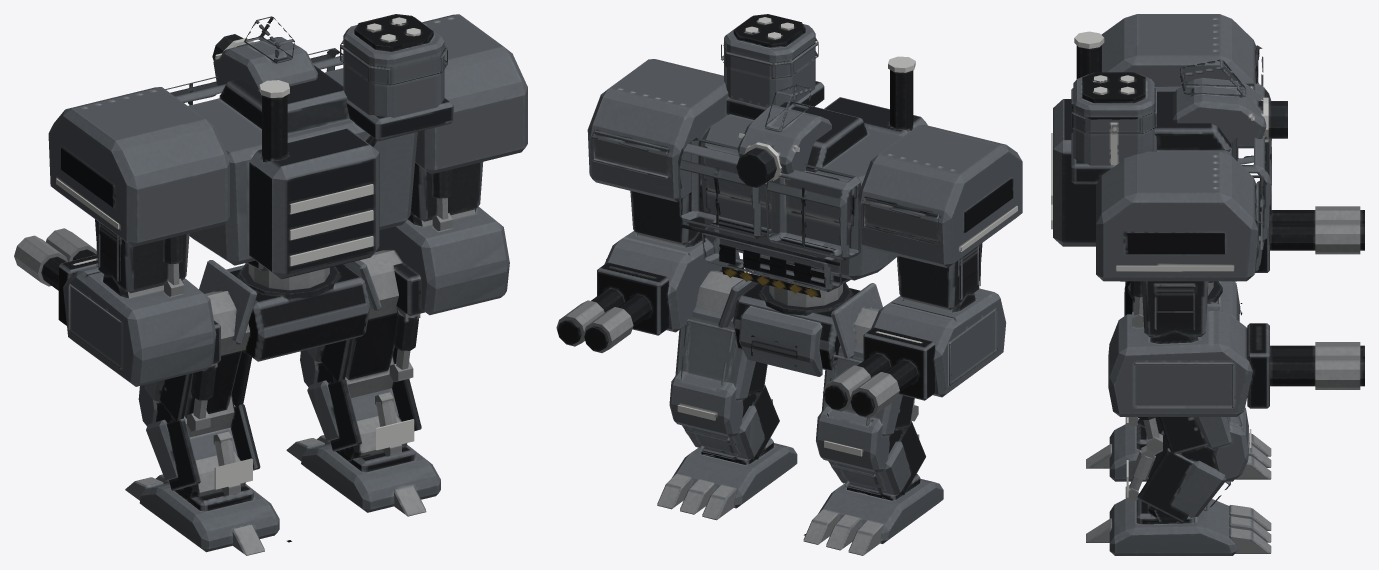
File: chs_korgoth.fbx
3 views of the same model, side by side, from view 1: azimuth 30°, elevation 25°; view 2: azimuth 150°, elevation 25°; view 3: azimuth 270°, elevation 25° (orthographic). The views are drawn at different scales.
Parts seen in each view (by area): view 1: torso_bar, gunL_bar, gunR_bar, base_bar, missile_pod_bar, thighR_bar, footR_bar, footL_bar, thighL_bar, shinL_bar, shinR_bar, ray_arm_bar (+3 smaller); view 2: torso_bar, gunL_bar, gunR_bar, thighR_bar, base_bar, missile_pod_bar, footR_bar, footL_bar, thighL_bar, ray_arm_bar, shinL_bar, shinR_bar; view 3: torso_bar, gunR_bar, footR_bar, missile_pod_bar, ray_arm_bar, shinR_bar, thighR_bar, gunL_bar, footL_bar, base_bar, torso_glow_running_bar, torso_glow_power_bar (+1 smaller).
Boxes of the visible parts, x1,y1,x2,y2 form: torso_bar: (48,14,527,290); gunL_bar: (14,219,220,386); gunR_bar: (376,162,509,315); base_bar: (199,260,381,361); missile_pod_bar: (340,14,447,117); thighR_bar: (300,250,420,397); footR_bar: (286,412,440,516); footL_bar: (125,451,279,555); thighL_bar: (138,291,251,437); shinL_bar: (146,404,260,495); shinR_bar: (307,379,421,456); ray_arm_bar: (212,16,317,91); torso_bar: (587,59,1022,307); gunL_bar: (823,243,1006,418); gunR_bar: (556,147,744,352); thighR_bar: (669,271,767,436); base_bar: (718,271,882,376); missile_pod_bar: (721,14,818,107); footR_bar: (657,438,797,520); footL_bar: (803,474,943,555); thighL_bar: (816,308,918,472); ray_arm_bar: (736,84,831,187); shinL_bar: (828,420,925,495); shinR_bar: (682,385,779,459); torso_bar: (1053,14,1271,295); gunR_bar: (1108,281,1364,416); footR_bar: (1086,493,1271,555); missile_pod_bar: (1071,72,1156,165); ray_arm_bar: (1173,59,1287,148); shinR_bar: (1125,429,1230,522); thighR_bar: (1138,407,1248,481); gunL_bar: (1120,206,1364,285); footL_bar: (1086,419,1271,481); base_bar: (1124,281,1242,321); torso_glow_running_bar: (1116,265,1233,271); torso_glow_power_bar: (1051,31,1104,229).
Bounding box in the file's own units: 2105 × 2574 × 1493.
Materials: 2 (2 with a texture image).
